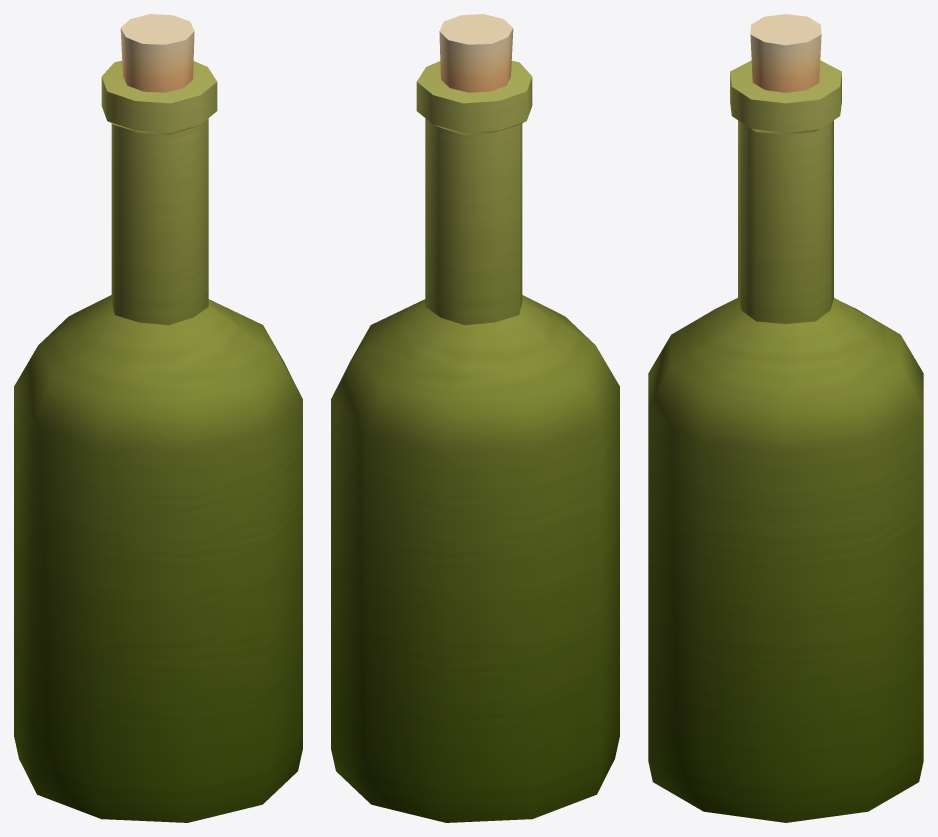
Rendered from WholeBottle.fbx.
3 renders of one model, left to right at view 1: azimuth 30°, elevation 25°; view 2: azimuth 150°, elevation 25°; view 3: azimuth 270°, elevation 25°, orthographic.
Visible parts, largest first — view 1: RumBottle; view 2: RumBottle; view 3: RumBottle.
Boxes of the visible parts, <box> form: RumBottle: <box>14,14,302,822</box>; RumBottle: <box>331,14,619,822</box>; RumBottle: <box>648,14,923,822</box>.
Bounding box in the file's own units: 2 × 5.59 × 1.9.
